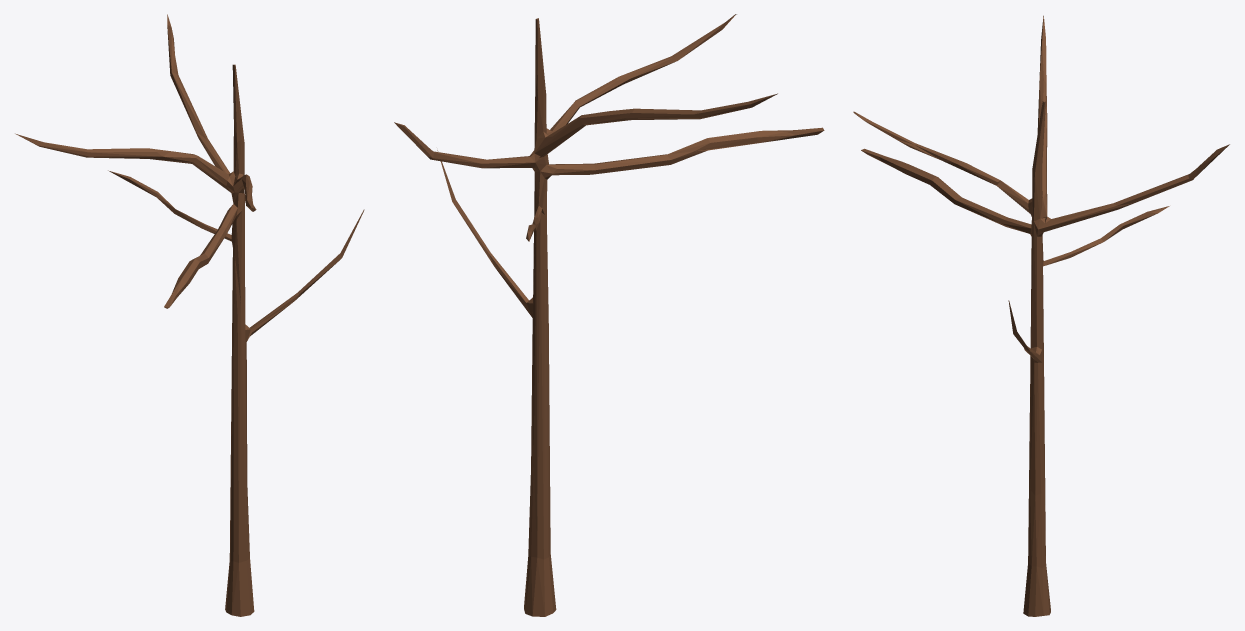
The model's file is SM_tree_winter_04.fbx.
3 renders of one model, left to right at view 1: azimuth 30°, elevation 25°; view 2: azimuth 150°, elevation 25°; view 3: azimuth 270°, elevation 25°, orthographic. The views are drawn at different scales.
Parts seen in each view (by area): view 1: Object067; view 2: Object067; view 3: Object067.
Part boxes in pixels (x1,y1,x2,y2): Object067: (15, 14, 364, 616); Object067: (394, 14, 824, 616); Object067: (853, 15, 1229, 616).
Bounding box in the file's own units: 120 × 126 × 188.
